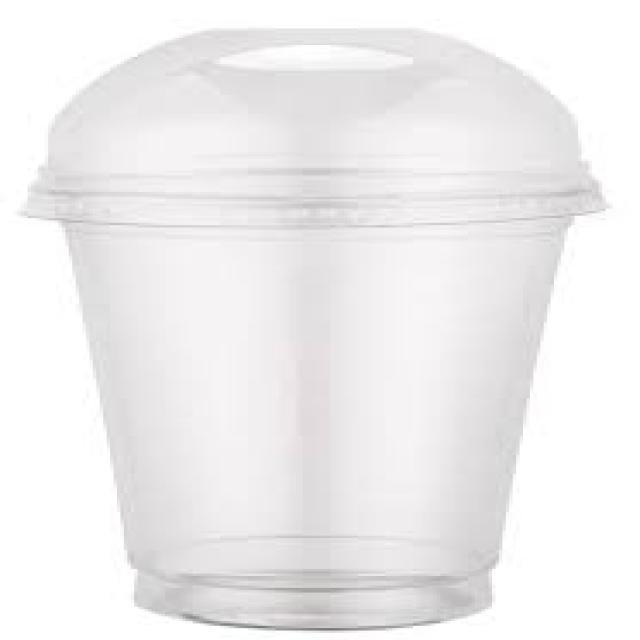cup: (11, 161, 618, 640)
